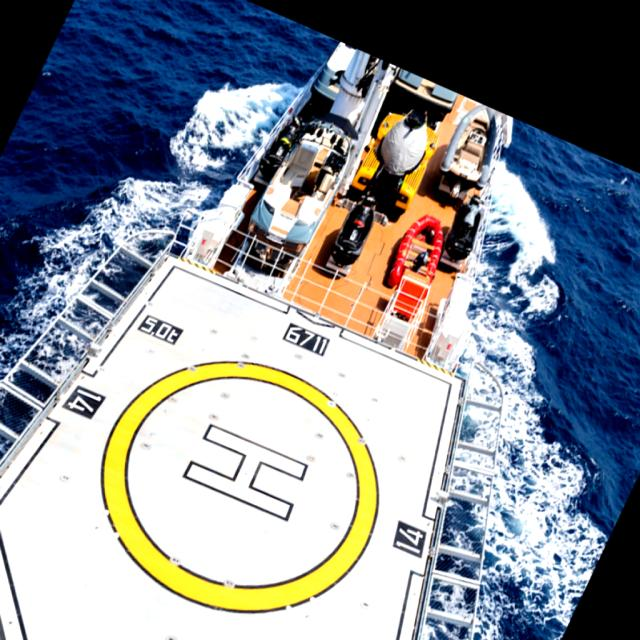helipad: (97, 355, 382, 616)
